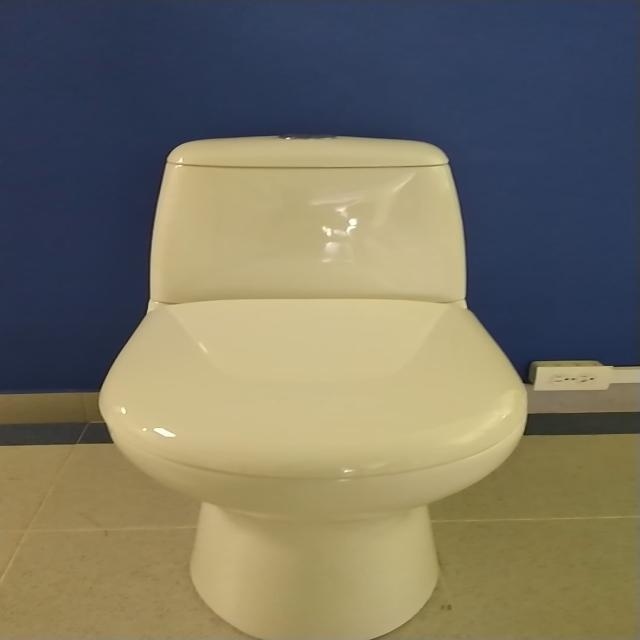toilet: (97, 133, 529, 639)
